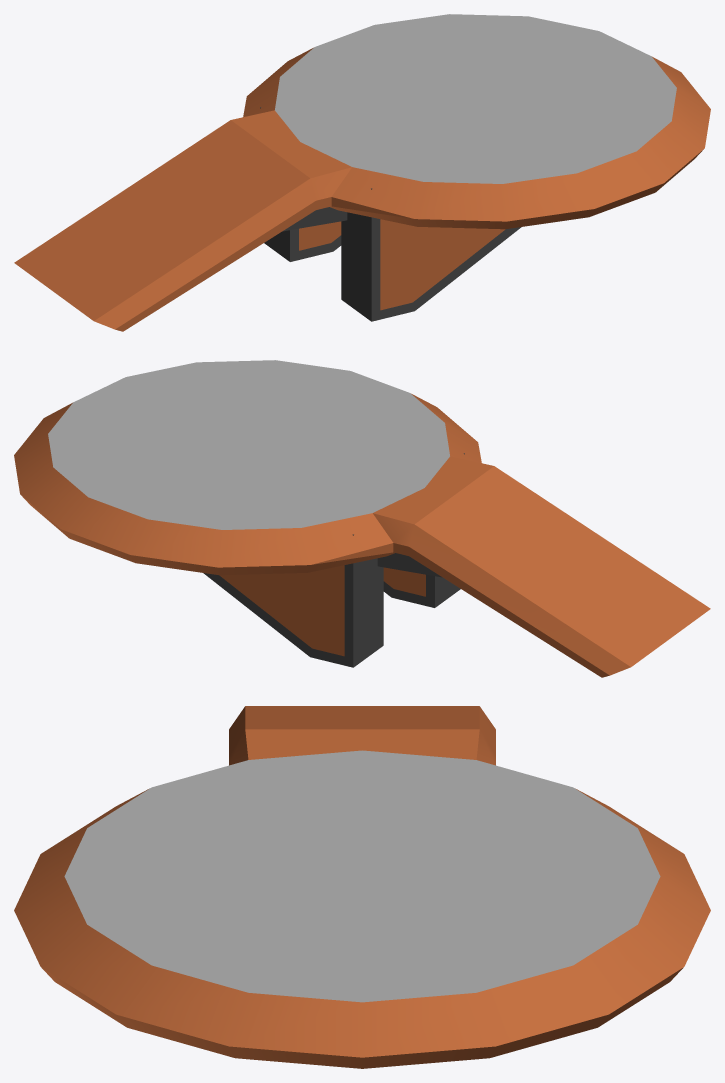
The model's file is env_building_landingpad_lod2.fbx.
3 renders of one model, top to bottom at view 1: azimuth 30°, elevation 25°; view 2: azimuth 150°, elevation 25°; view 3: azimuth 270°, elevation 25°, orthographic. The views are drawn at different scales.
Parts seen in each view (by area): view 1: env_building_landingpad:polySurface1350; view 2: env_building_landingpad:polySurface1350; view 3: env_building_landingpad:polySurface1350.
Part boxes in pixels (box(x1,y1,x2,y2)): env_building_landingpad:polySurface1350: box(14, 14, 710, 331); env_building_landingpad:polySurface1350: box(14, 360, 710, 677); env_building_landingpad:polySurface1350: box(14, 706, 710, 1068).
Size of the model in its own units: 257 by 55.94 by 168.
